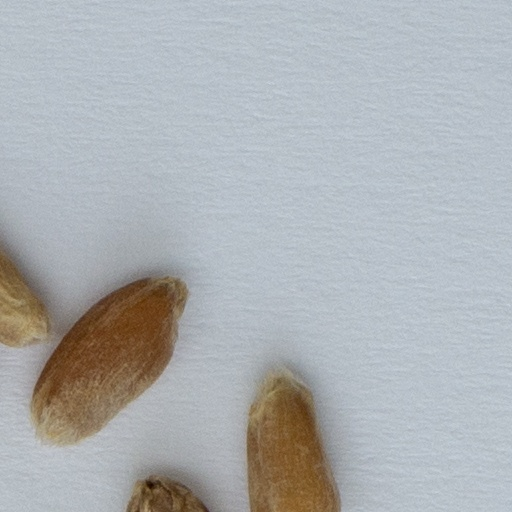Wheat-grain-poly: (128, 474, 210, 511)
